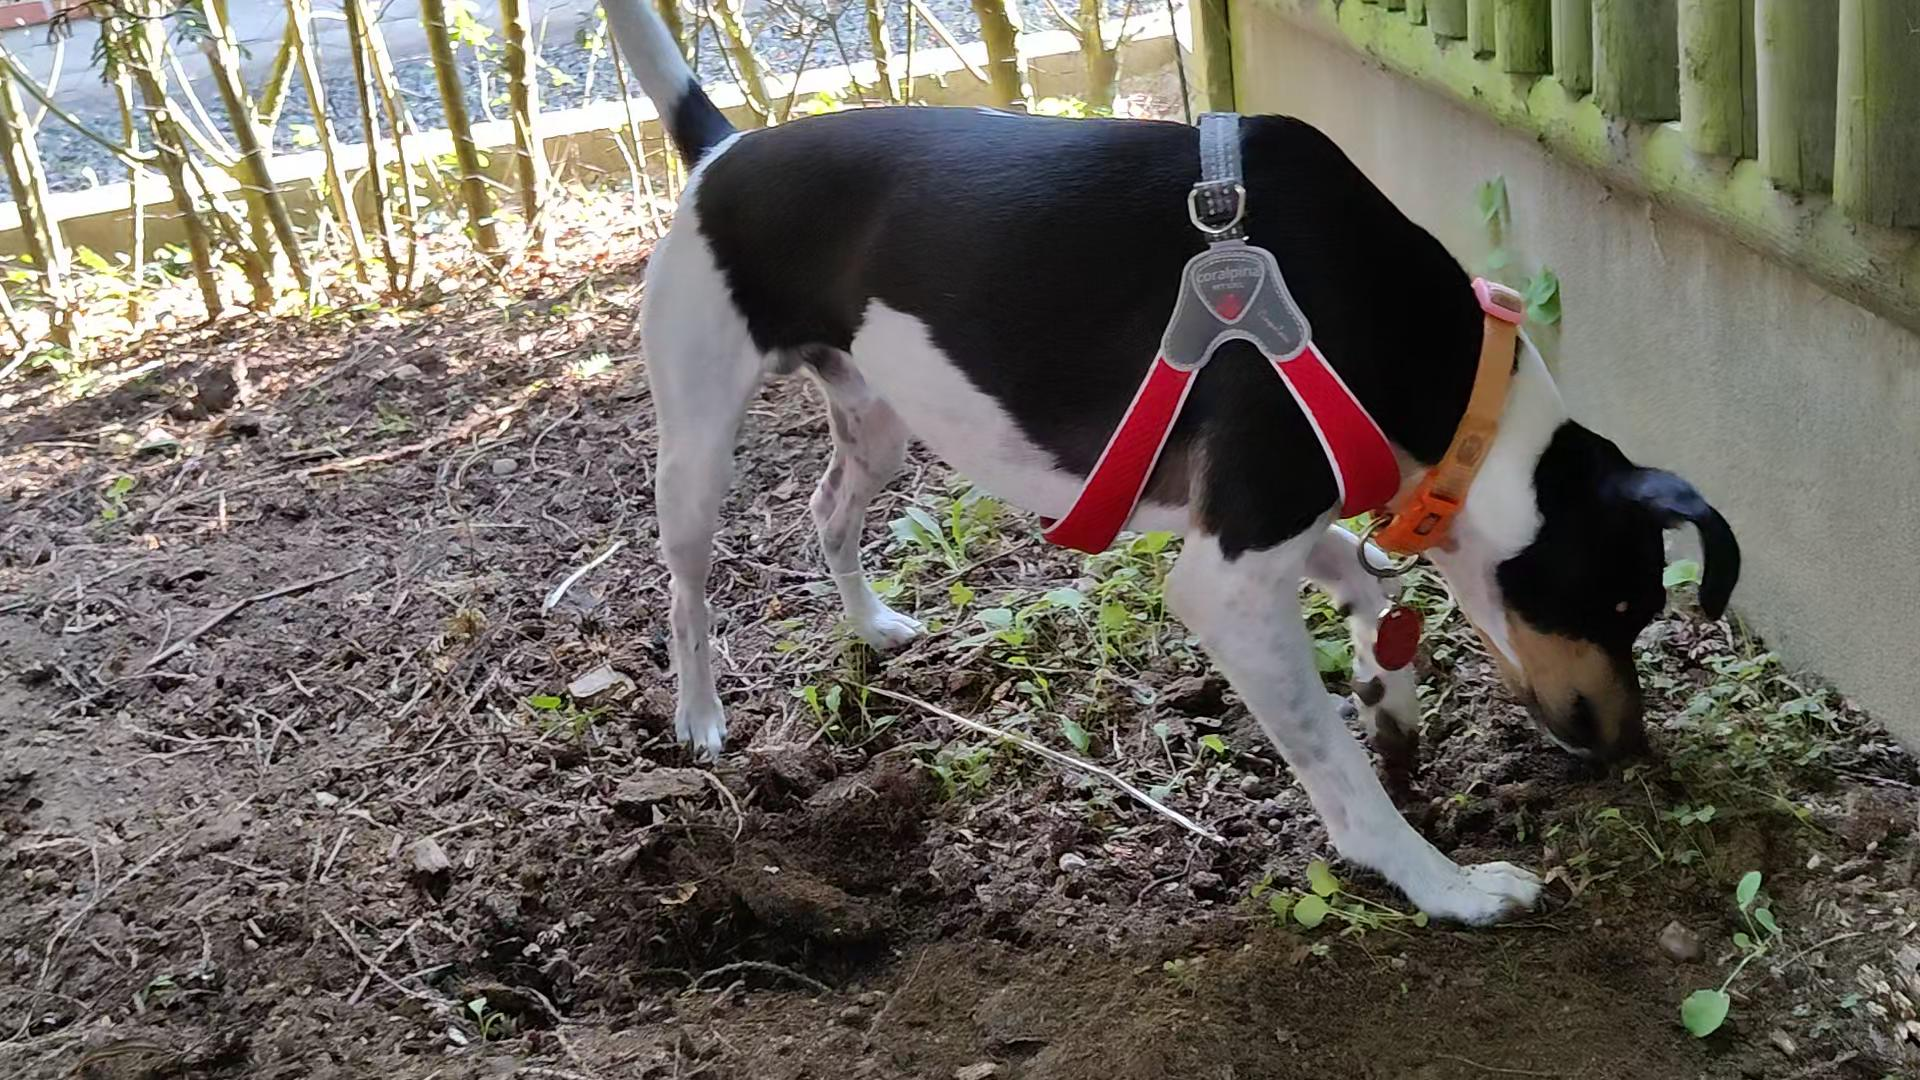Dog: (579, 0, 1755, 948)
